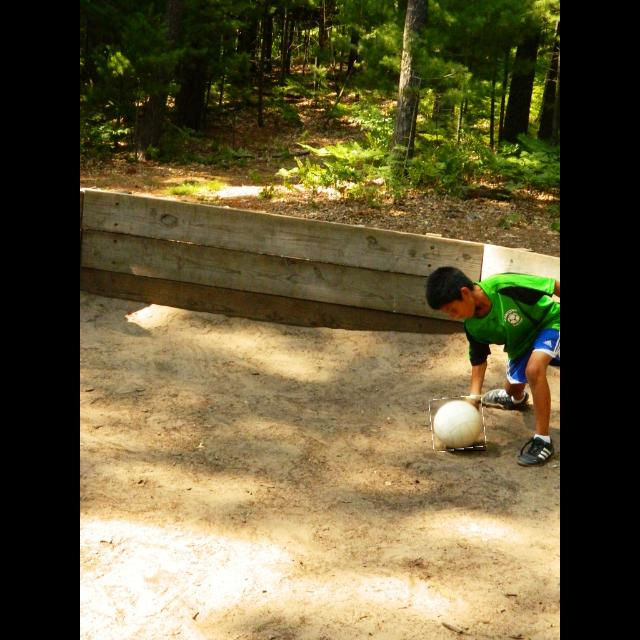Football: (430, 397, 486, 451)
